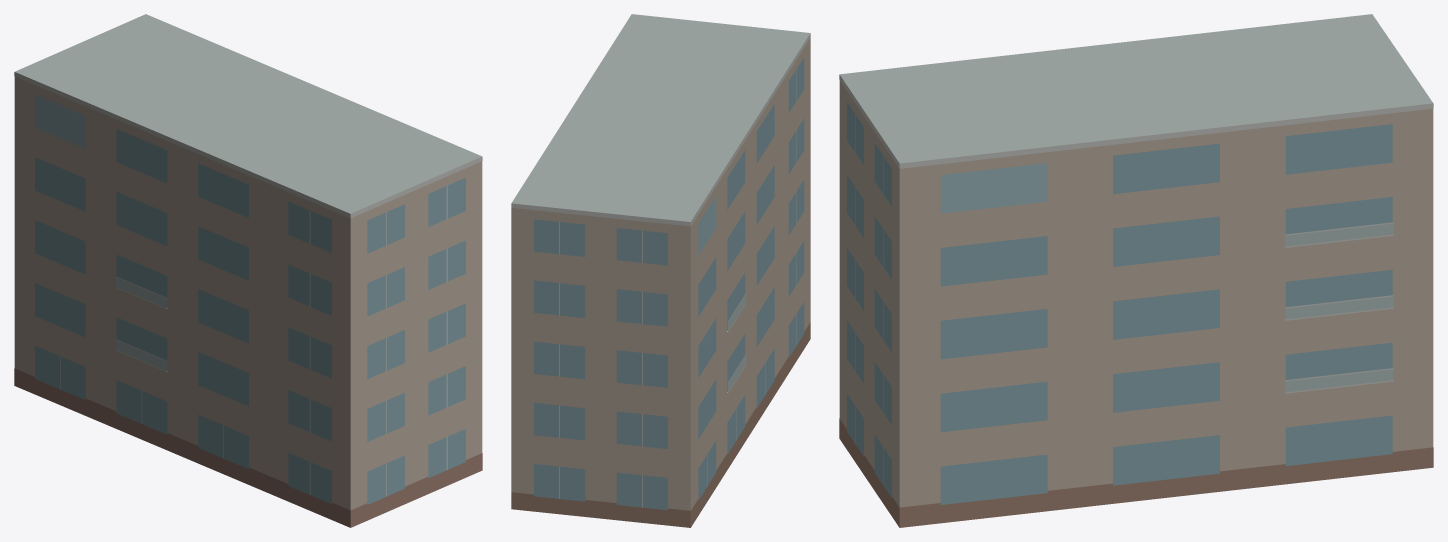
File: survey-upis-32613809.glb
3 views of the same model, side by side, from view 1: azimuth 30°, elevation 25°; view 2: azimuth 150°, elevation 25°; view 3: azimuth 270°, elevation 25° (orthographic). The views are drawn at different scales.
Visible parts, largest first — view 1: survey-upis-32613809.tmp; view 2: survey-upis-32613809.tmp; view 3: survey-upis-32613809.tmp.
Boxes of the visible parts, x1,y1,x2,y2 form: survey-upis-32613809.tmp: (14, 14, 482, 527); survey-upis-32613809.tmp: (511, 14, 810, 527); survey-upis-32613809.tmp: (839, 14, 1433, 527).
Size of the model in its own units: 14.81 by 16.8 by 24.84.
